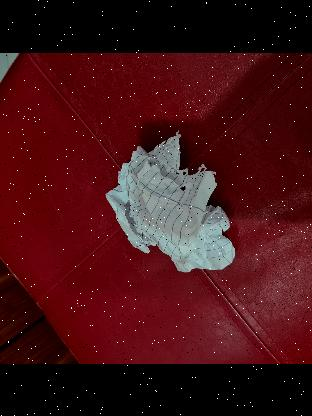Others: (101, 134, 237, 274)
